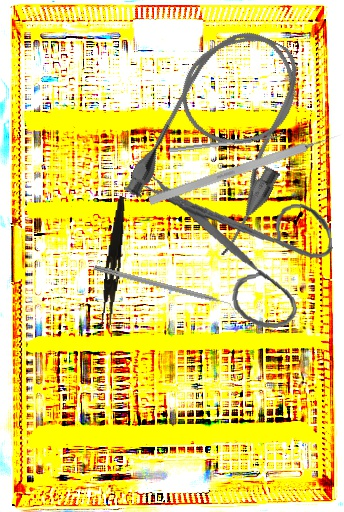Cannula: (117, 10, 333, 263)
Chopper: (90, 264, 241, 317)
Dressing Forceps: (100, 195, 127, 329)
Hook Surgical: (147, 130, 344, 206)
Iris Scissors: (140, 154, 341, 341)
Spatula Surgical: (168, 129, 285, 153)
